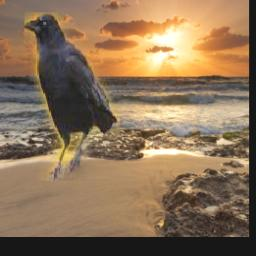Crow: (24, 13, 119, 182)
